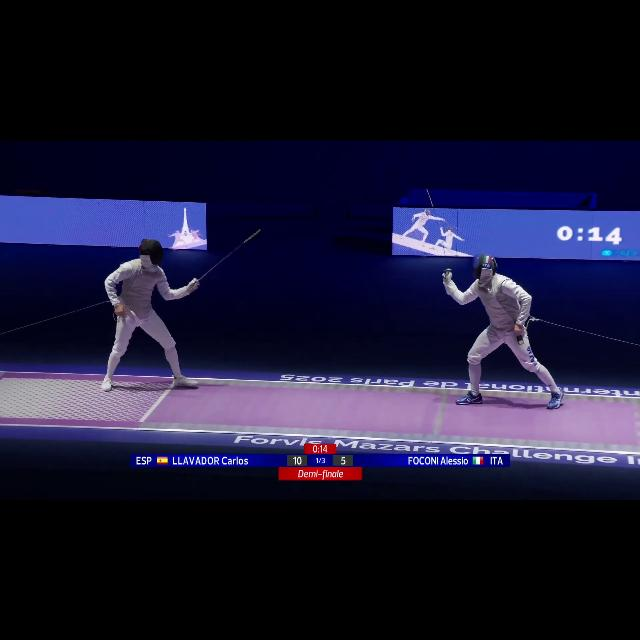blade: (191, 224, 267, 290), (422, 187, 454, 277)
